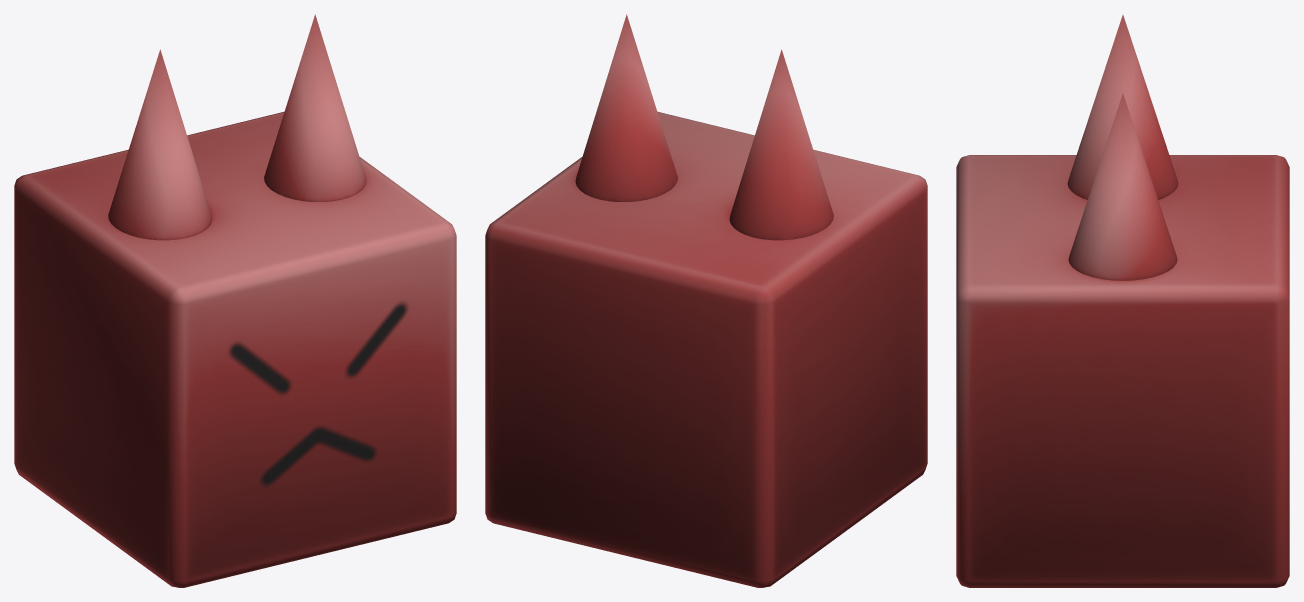
File: Enemy.fbx
The picture shows the model from 3 angles, left to right: view 1: azimuth 30°, elevation 25°; view 2: azimuth 150°, elevation 25°; view 3: azimuth 270°, elevation 25°; orthographic projection.
Parts seen in each view (by area): view 1: Cube; view 2: Cube; view 3: Cube.
Boxes of the visible parts, x1=… form: Cube: x1=14, y1=14, x2=456, y2=587; Cube: x1=485, y1=14, x2=927, y2=587; Cube: x1=956, y1=15, x2=1289, y2=587.
Size of the model in its own units: 200 by 312 by 200.
